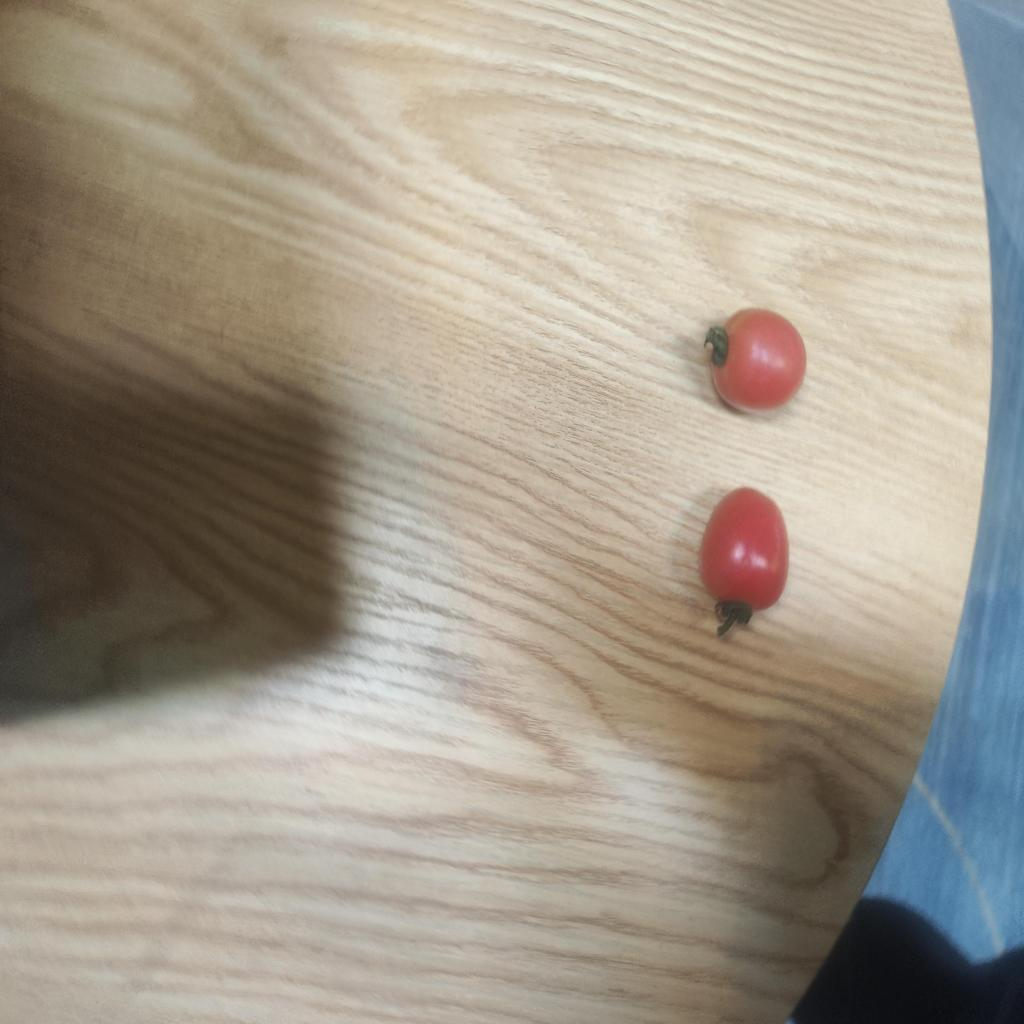tomato: (690, 487, 798, 631), (706, 303, 812, 416)
